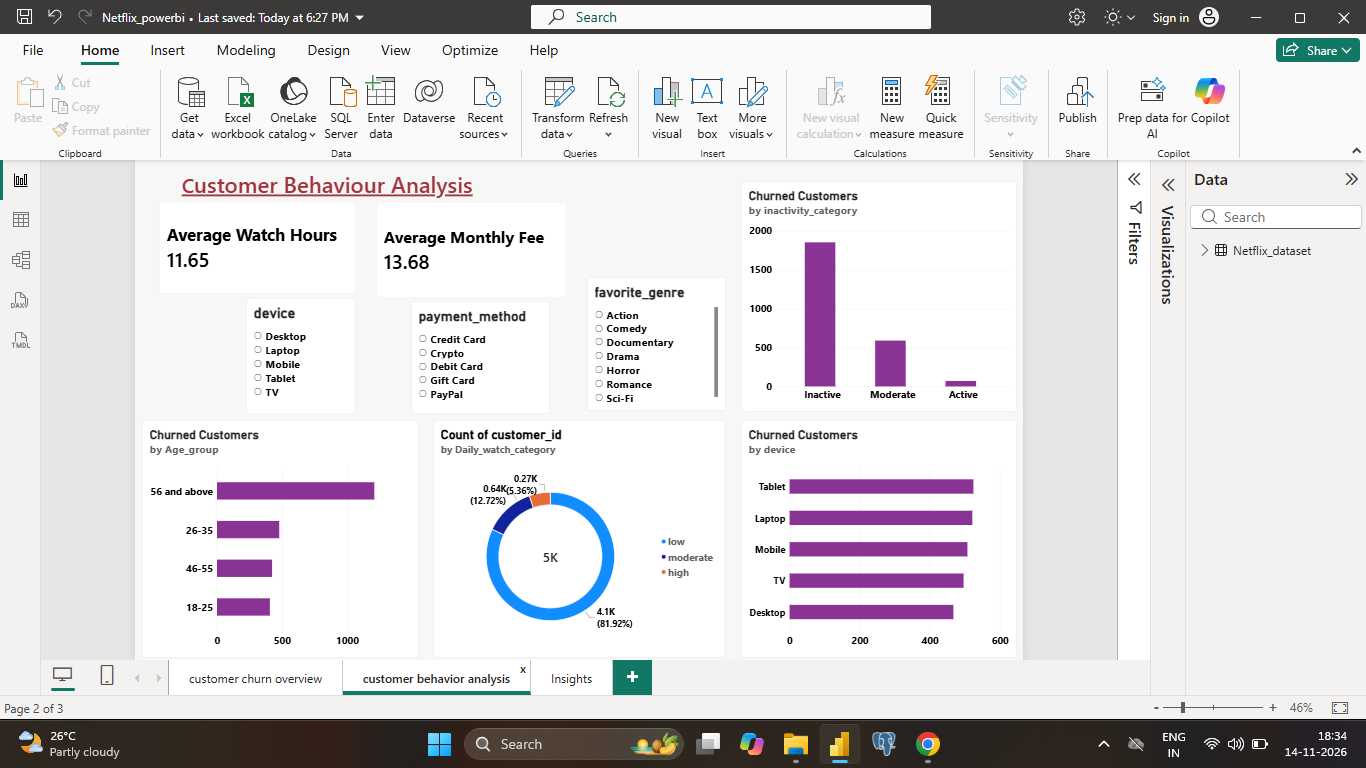

The dashboard page shown, as its layout file describes it:
{"tool":"powerbi","page":{"name":"customer behavior analysis","canvas":[1920,1080],"ordinal":1},"visuals":[{"type":"cardVisual","fields":{"Data":["Netflix_dataset.Average Watch Hours"]},"box":[51.1,88.9,424.4,200],"z":0},{"type":"cardVisual","fields":{"Data":["Netflix_dataset.Average Monthly Fee"]},"box":[520,91.1,411.1,206.7],"z":1},{"type":"textbox","box":[51.1,20,726.7,106.7],"z":2},{"type":"clusteredBarChart","fields":{"Category":["Netflix_dataset.Age_group"],"Y":["Netflix_dataset.Churned Customers"]},"box":[15.6,562.2,597.8,513.3],"z":3},{"type":"clusteredColumnChart","fields":{"Category":["Netflix_dataset.inactivity_category"],"Y":["Netflix_dataset.Churned Customers"]},"box":[1308.9,44.4,595.6,497.8],"z":4},{"type":"donutChart","fields":{"Category":["Netflix_dataset.Daily_watch_category"],"Y":["CountNonNull(Netflix_dataset.customer_id)"]},"box":[644.4,562.2,631.1,513.3],"z":5},{"type":"clusteredBarChart","fields":{"Category":["Netflix_dataset.device"],"Y":["Netflix_dataset.Churned Customers"]},"box":[1308.9,562.2,595.6,513.3],"z":6},{"type":"listSlicer","fields":{"Values":["Netflix_dataset.payment_method"]},"box":[595.6,304.4,300,244.4],"z":7},{"type":"listSlicer","fields":{"Values":["Netflix_dataset.favorite_genre"]},"box":[975.6,253.3,300,288.9],"z":8},{"type":"listSlicer","fields":{"Values":["Netflix_dataset.device"]},"box":[240,297.8,235.6,251.1],"z":9}]}

Visuals, with their boxes on the page's 1920x1080 design canvas (x1, y1, x2, y2). These are canvas units, not pixel positions in the 1366x768 screenshot, which may show the page scaled, cropped or inside an application window:
cardVisual - Netflix_dataset.Average Watch Hours: bbox(51, 89, 476, 289)
cardVisual - Netflix_dataset.Average Monthly Fee: bbox(520, 91, 931, 298)
textbox: bbox(51, 20, 778, 127)
clusteredBarChart - Netflix_dataset.Age_group x Netflix_dataset.Churned Customers: bbox(16, 562, 613, 1076)
clusteredColumnChart - Netflix_dataset.inactivity_category x Netflix_dataset.Churned Customers: bbox(1309, 44, 1904, 542)
donutChart - Netflix_dataset.Daily_watch_category x CountNonNull(Netflix_dataset.customer_id): bbox(644, 562, 1276, 1076)
clusteredBarChart - Netflix_dataset.device x Netflix_dataset.Churned Customers: bbox(1309, 562, 1904, 1076)
listSlicer - Netflix_dataset.payment_method: bbox(596, 304, 896, 549)
listSlicer - Netflix_dataset.favorite_genre: bbox(976, 253, 1276, 542)
listSlicer - Netflix_dataset.device: bbox(240, 298, 476, 549)
